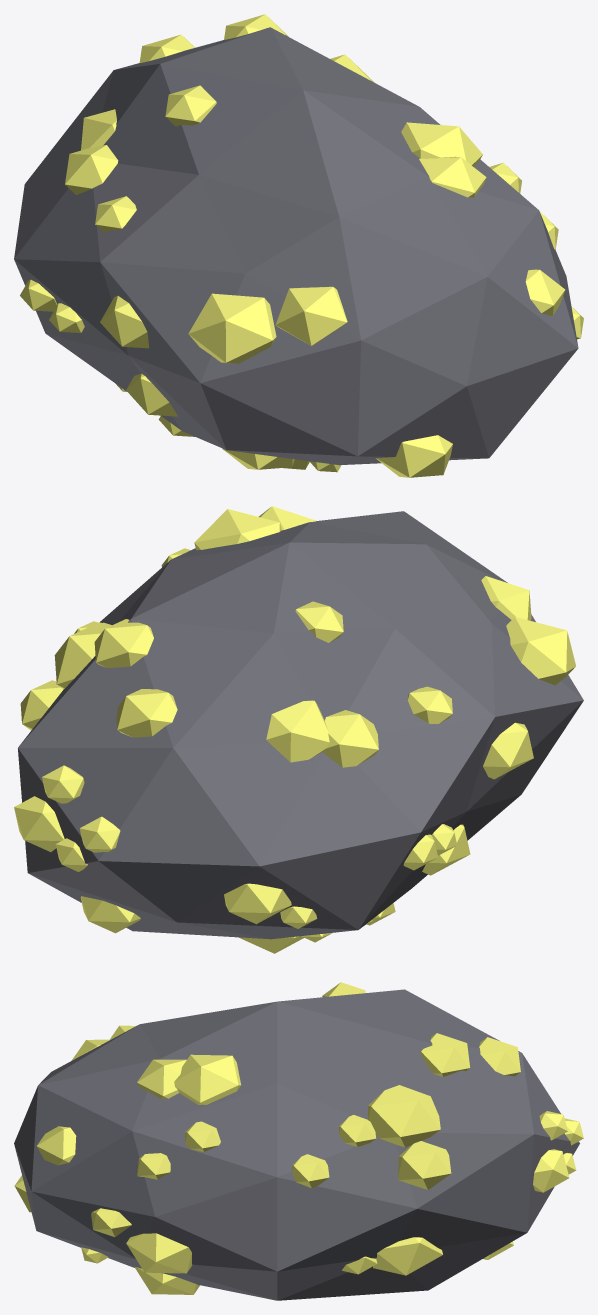
File: Glowstone Unharvested.fbx
3 renders of one model, top to bottom at view 1: azimuth 30°, elevation 25°; view 2: azimuth 150°, elevation 25°; view 3: azimuth 270°, elevation 25°, orthographic. The views are drawn at different scales.
Visible parts, largest first — view 1: glowstone; view 2: glowstone; view 3: glowstone.
Boxes of the visible parts, <box> form: glowstone: <box>14,14,583,477</box>; glowstone: <box>14,506,583,953</box>; glowstone: <box>14,982,583,1300</box>.
Bounding box in the file's own units: 0.8403 × 0.6813 × 1.22.
